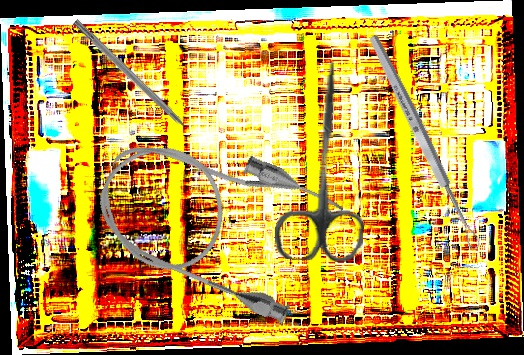Cannula: (81, 109, 349, 329)
Hook Surgical: (71, 18, 201, 144)
Iris Scissors: (273, 58, 373, 264)
Surgical Spoon: (365, 32, 484, 253)
